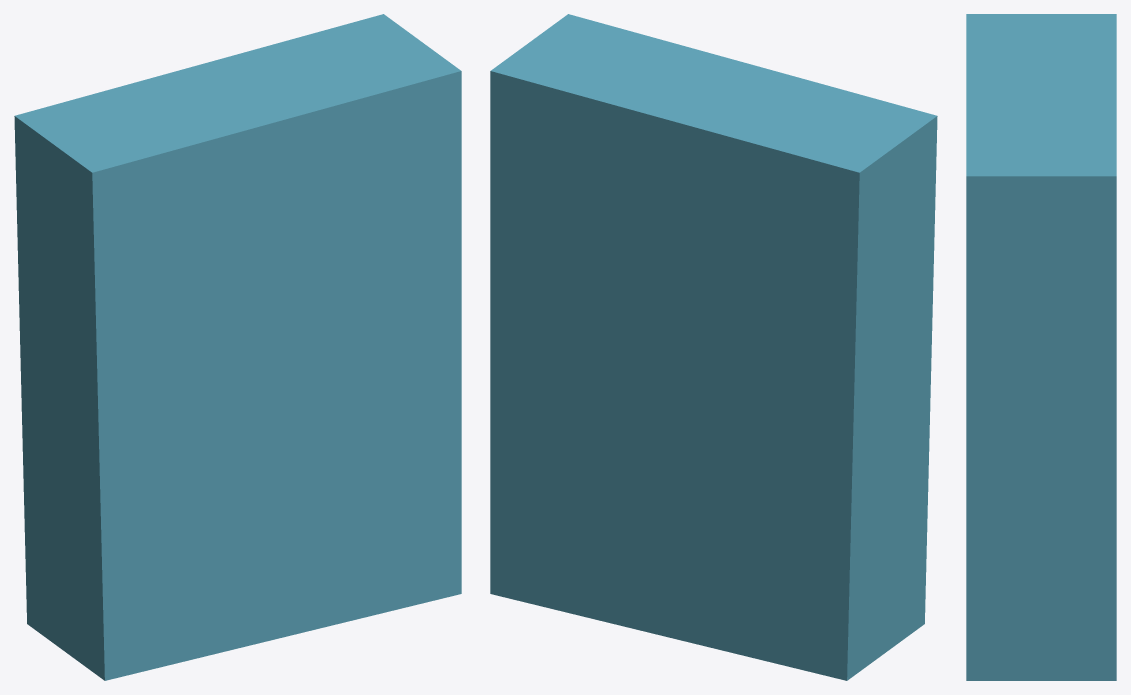
3 renders of one model, left to right at view 1: azimuth 30°, elevation 25°; view 2: azimuth 150°, elevation 25°; view 3: azimuth 270°, elevation 25°, orthographic. The views are drawn at different scales.
Visible parts, largest first — view 1: geometry_0; view 2: geometry_0; view 3: geometry_0.
Part boxes in pixels (bbox=[...]): geometry_0: bbox=[14, 14, 461, 680]; geometry_0: bbox=[490, 14, 937, 680]; geometry_0: bbox=[966, 14, 1116, 680].
Bounding box in the file's own units: 8.22 × 11.12 × 3.
